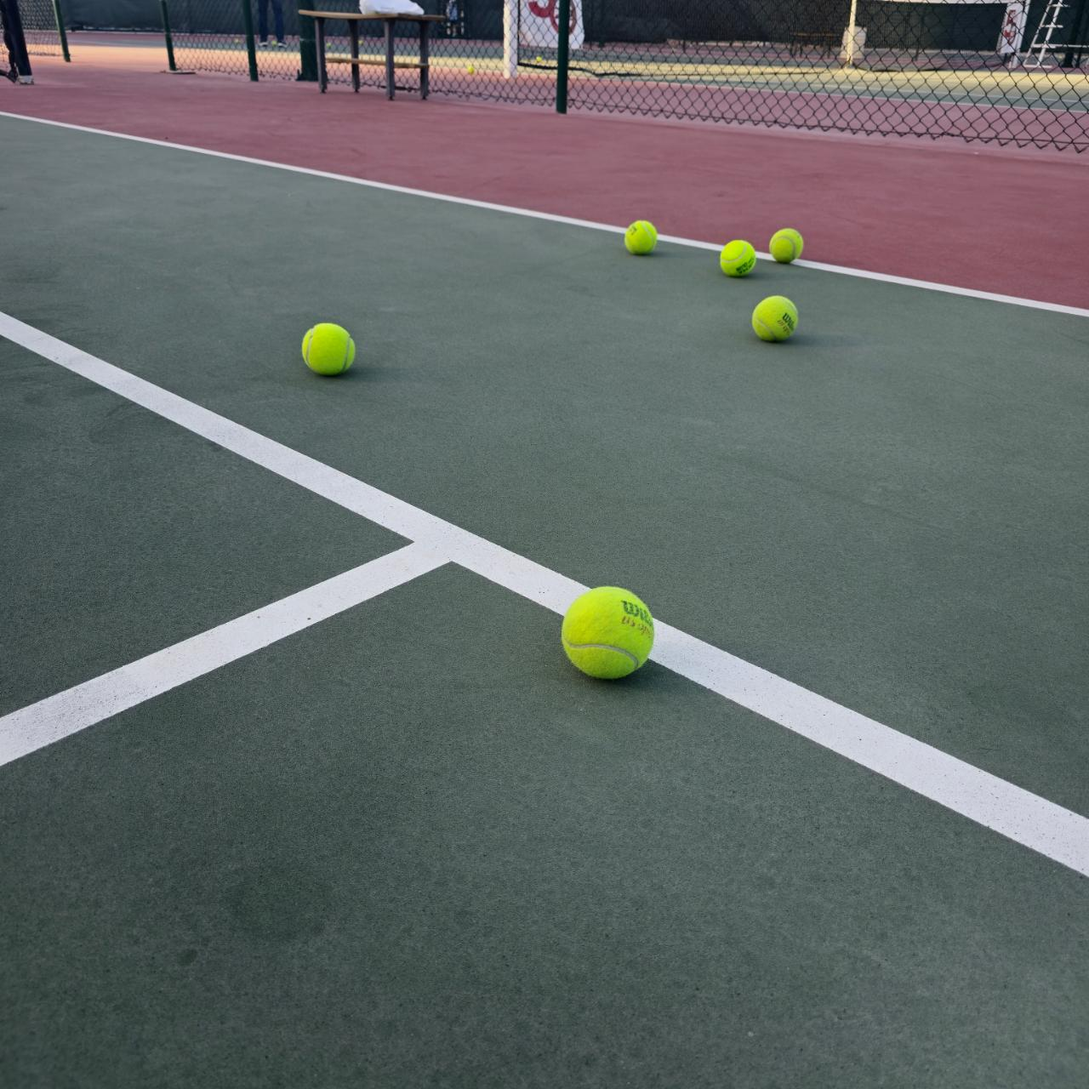tennis-ball: (559, 583, 655, 681), (299, 319, 356, 376), (750, 293, 799, 342), (717, 237, 756, 277), (767, 225, 804, 263), (622, 217, 658, 254)
